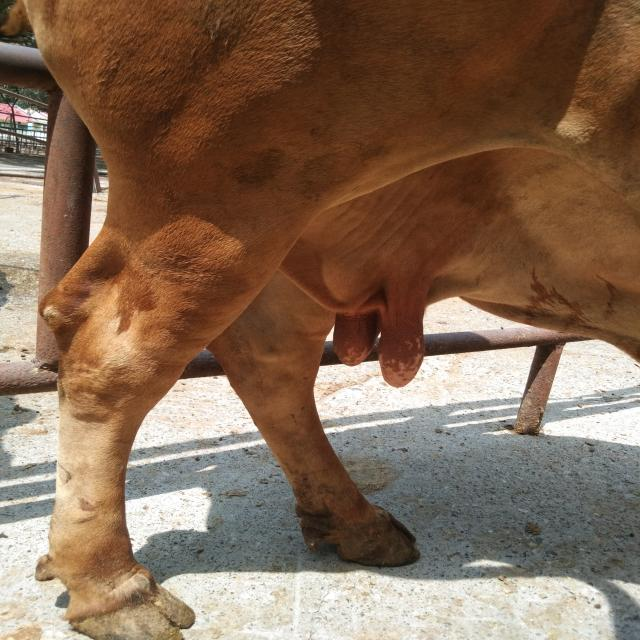Hoof: (63, 572, 196, 639), (295, 501, 420, 568)
